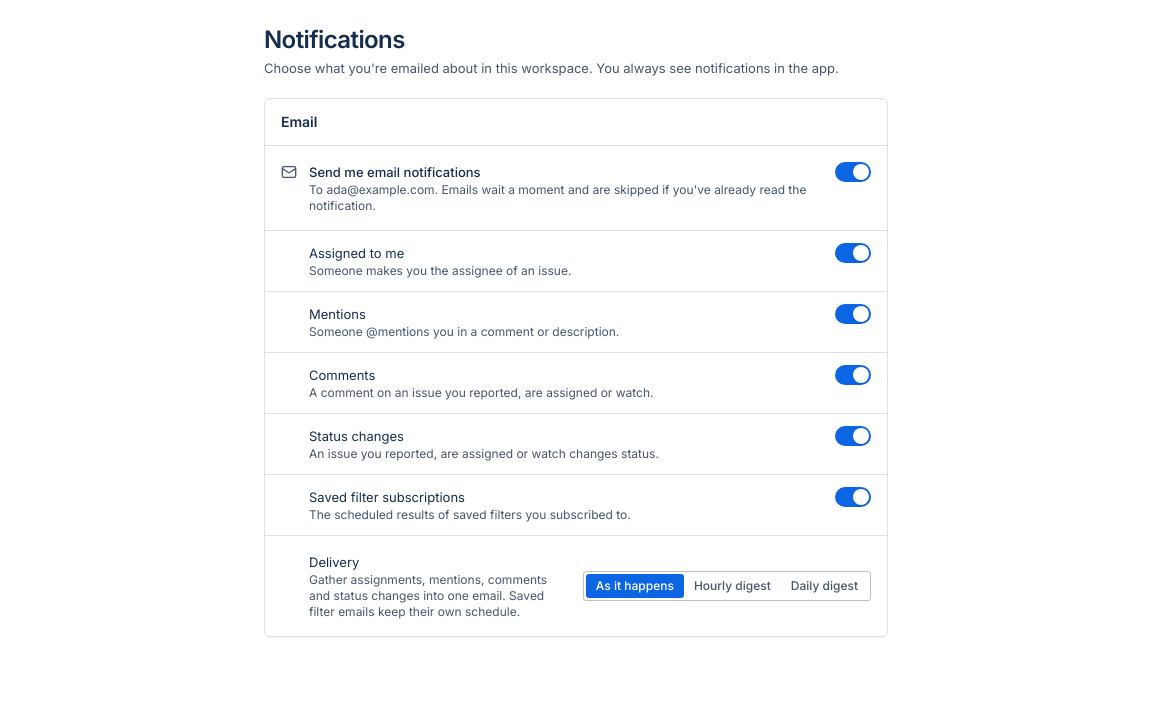
Test: notification settings › saves each switch at once and puts it back when saving fails
The width and height of the screenshot is (1152, 720).
Click the switch named "Comments" at {"x": 853, "y": 375}, box top-left (835, 365), bottom-right (871, 385)
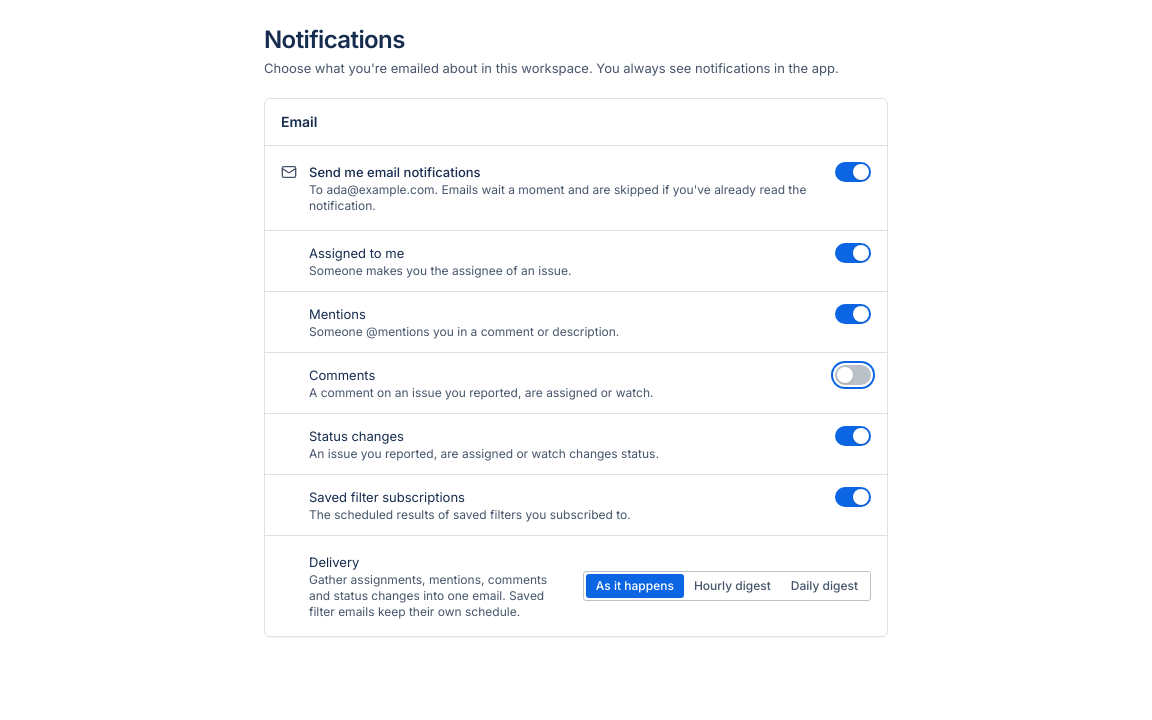
Expected: the switch named "Comments" is not checked, top-left (835, 365), bottom-right (871, 385)
Click the switch named "Saved filter subscriptions" at {"x": 853, "y": 497}, box top-left (835, 487), bottom-right (871, 507)
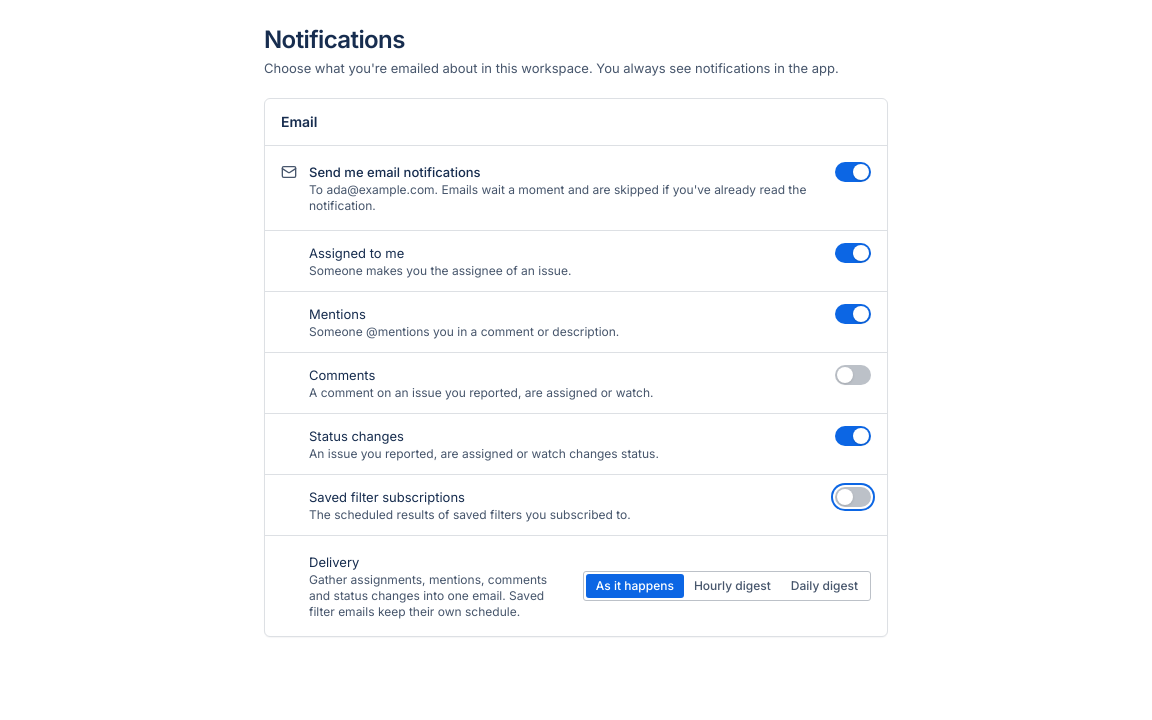
Click the switch named "Send me email notifications" at {"x": 853, "y": 172}, box top-left (835, 162), bottom-right (871, 182)
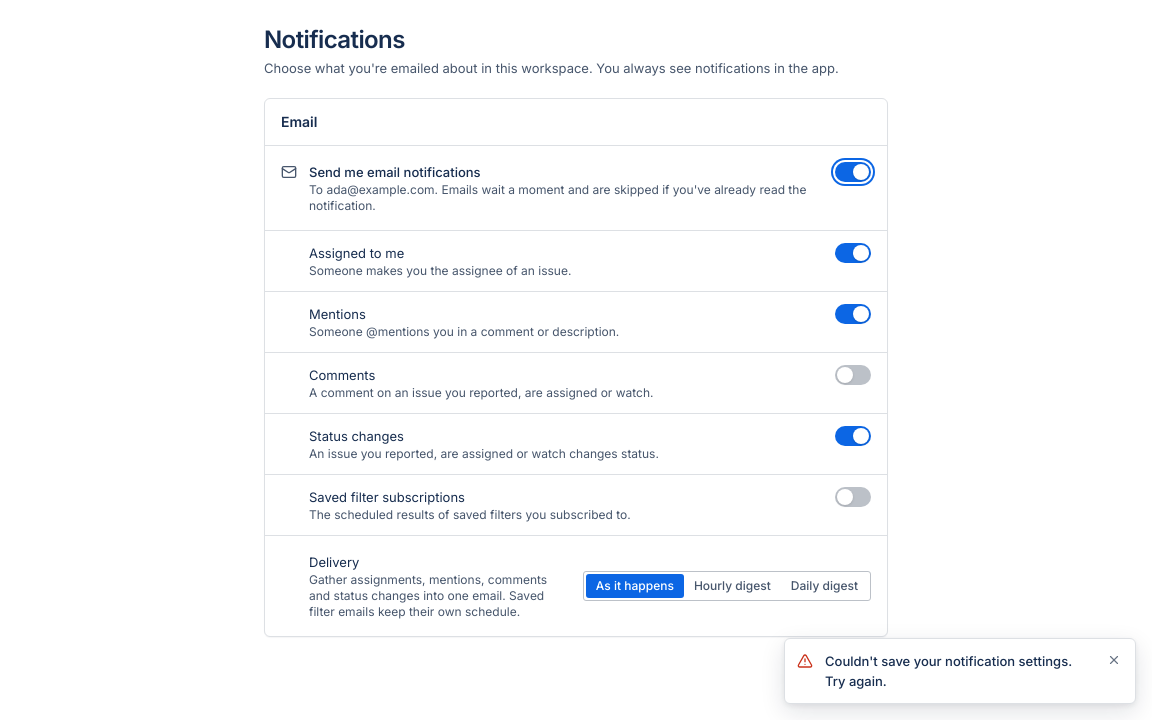
Expected: the switch named "Status changes" is enabled, top-left (835, 426), bottom-right (871, 446)
Expected: the text "Couldn't save your notification settings. Try again." is shown, top-left (825, 651), bottom-right (1093, 691)
